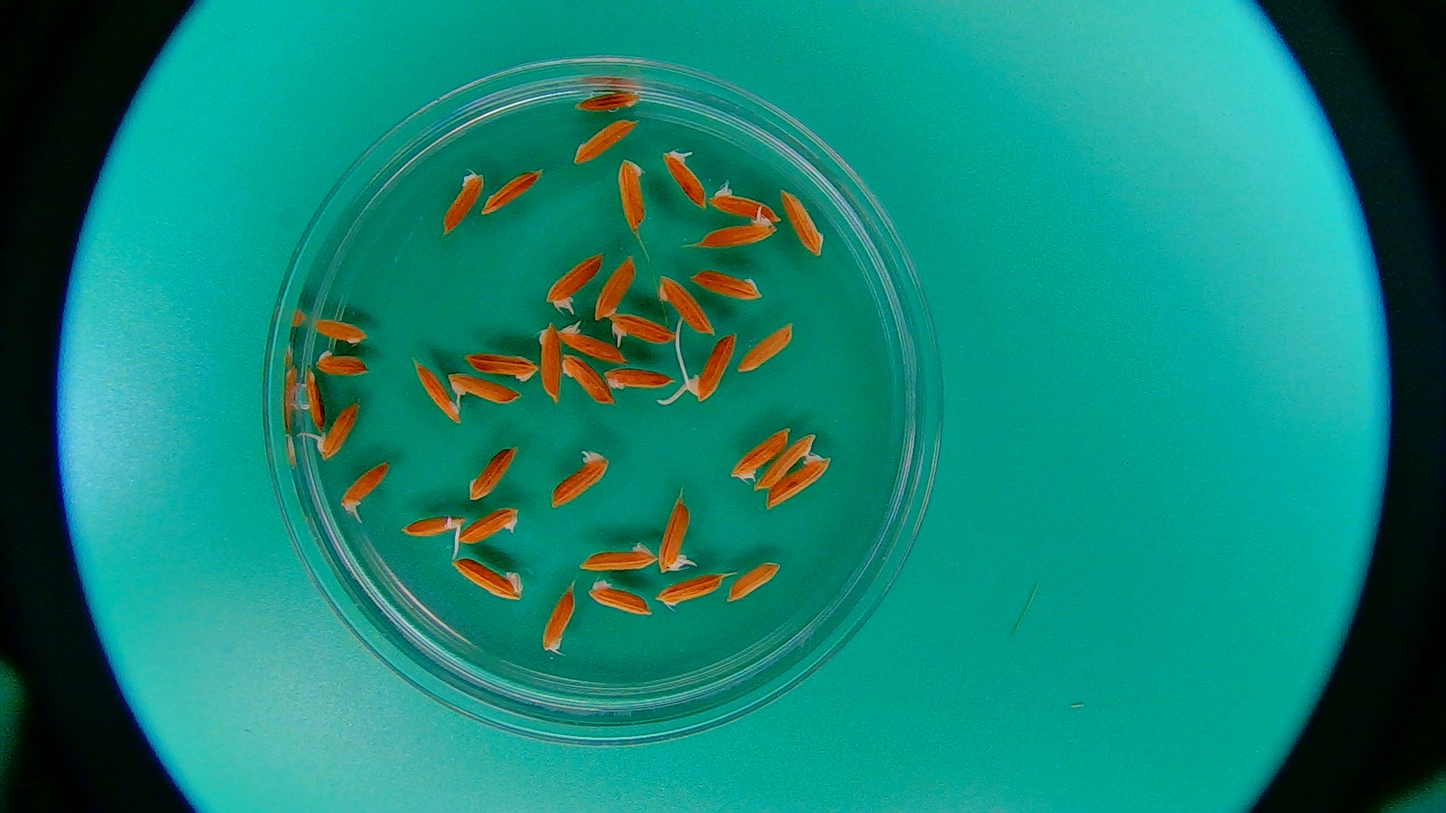no: (755, 434, 819, 495), (764, 453, 831, 507), (728, 428, 792, 483), (733, 318, 794, 375), (573, 540, 657, 580), (560, 352, 619, 407), (469, 440, 519, 504), (456, 558, 523, 604), (657, 279, 715, 332), (574, 117, 636, 165), (412, 363, 460, 423), (784, 188, 825, 257), (442, 171, 486, 233), (459, 506, 520, 550), (595, 257, 636, 318), (478, 175, 537, 217), (656, 574, 727, 607), (541, 591, 577, 654), (533, 320, 560, 404), (693, 267, 768, 297), (588, 581, 650, 617), (469, 351, 538, 383), (618, 160, 647, 231), (603, 363, 674, 392), (298, 365, 329, 431), (728, 561, 779, 601), (570, 93, 639, 115), (313, 318, 366, 346)
yes: (548, 250, 609, 309), (550, 453, 610, 510), (688, 331, 736, 400), (660, 152, 712, 207), (557, 327, 629, 365), (338, 461, 392, 510), (658, 499, 694, 571), (313, 402, 359, 458), (709, 188, 780, 222), (700, 217, 775, 248), (449, 374, 520, 405), (615, 312, 679, 346), (403, 513, 469, 542), (313, 347, 372, 376)
